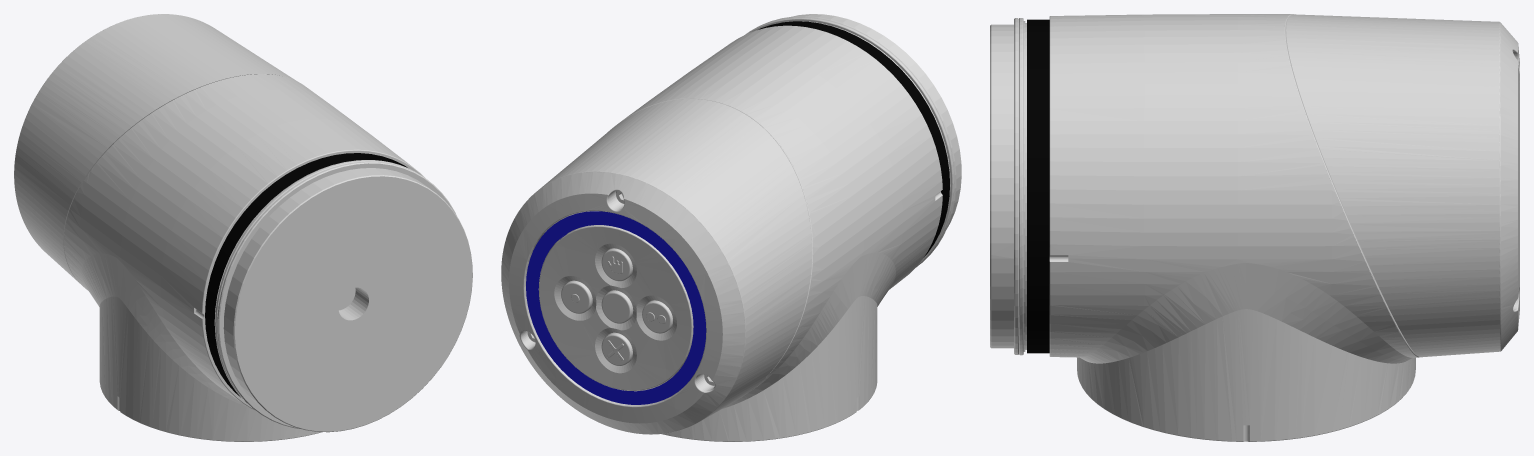
The model's file is symphony20_5_w.dae.
3 renders of one model, left to right at view 1: azimuth 30°, elevation 25°; view 2: azimuth 150°, elevation 25°; view 3: azimuth 270°, elevation 25°, orthographic. The views are drawn at different scales.
Parts seen in each view (by area): view 1: link5; view 2: link5; view 3: link5.
Part boxes in pixels (x1,y1,x2,y2): link5: (14,14,472,441); link5: (501,14,961,441); link5: (990,14,1519,441).
Bounding box in the file's own units: 0.0917 × 0.1408 × 0.0998.
